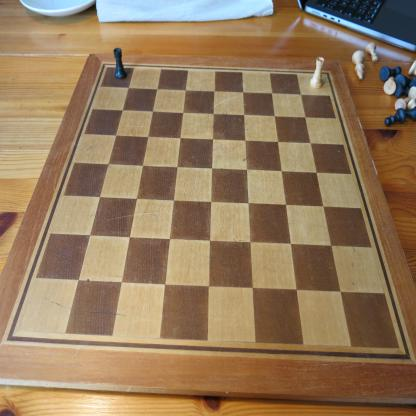black-pawn: (384, 108, 406, 127)
black-rook: (113, 47, 127, 80)
white-bishop: (352, 49, 366, 81)
white-pawn: (366, 42, 378, 63)
white-rook: (310, 56, 324, 89)
